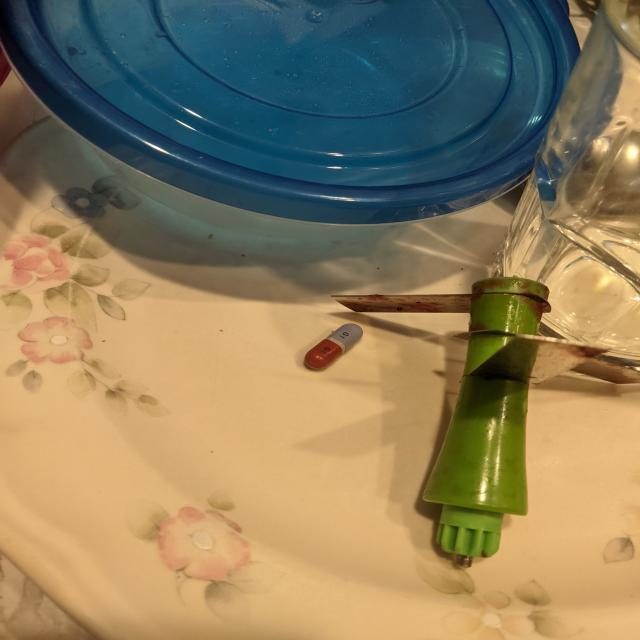non-organic waste: (304, 322, 364, 370)
